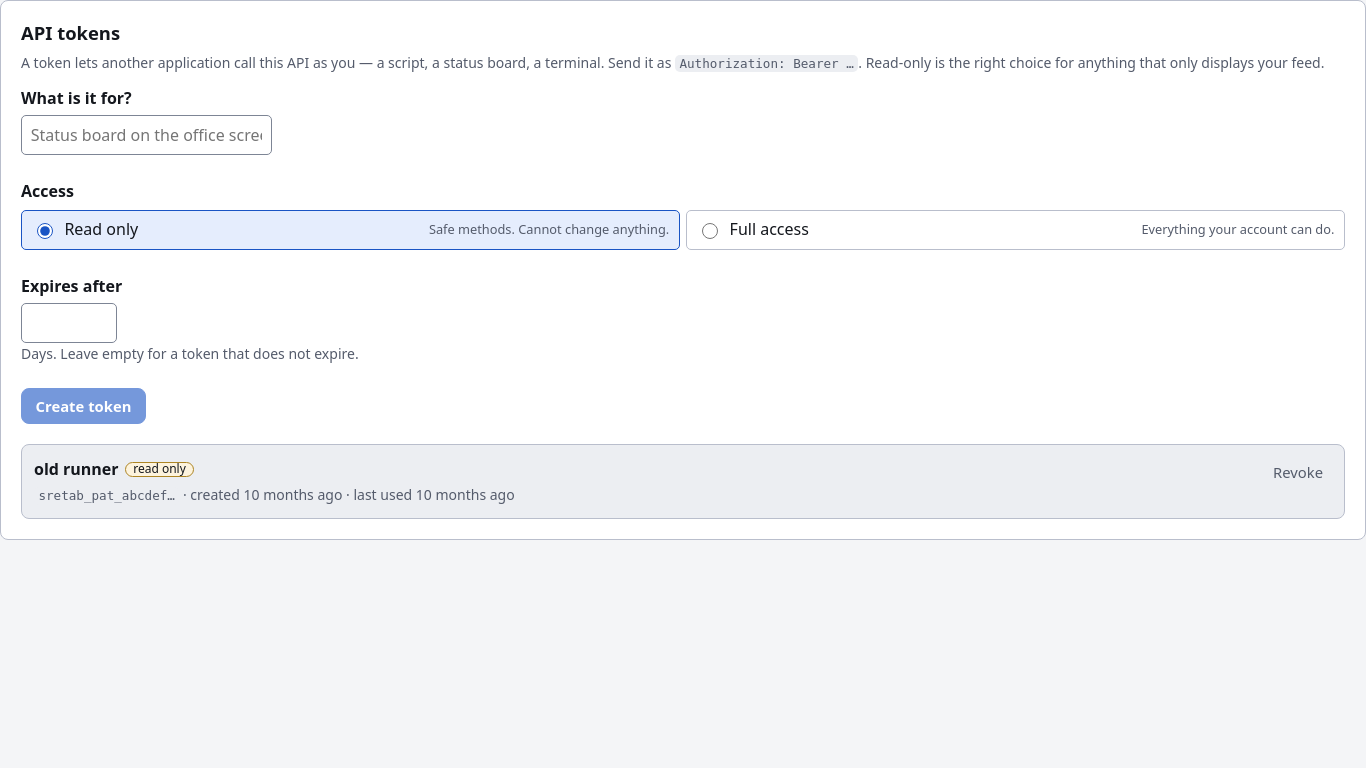
it: ApiTokensSection › revokes a token and reloads the list
Click the button "Revoke" at [1298, 472], box [1264, 457, 1332, 488]
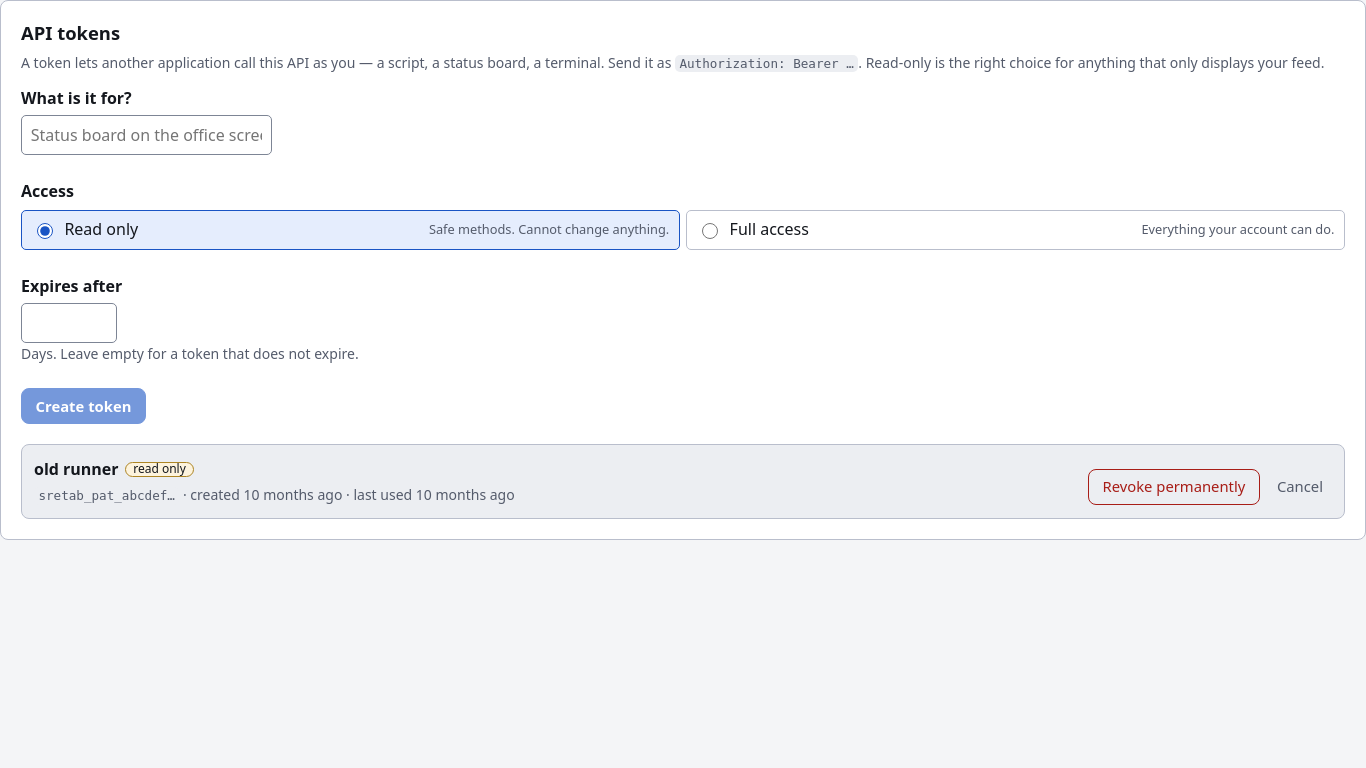
Click the button "Revoke permanently" at [1174, 487], box [1088, 469, 1260, 505]
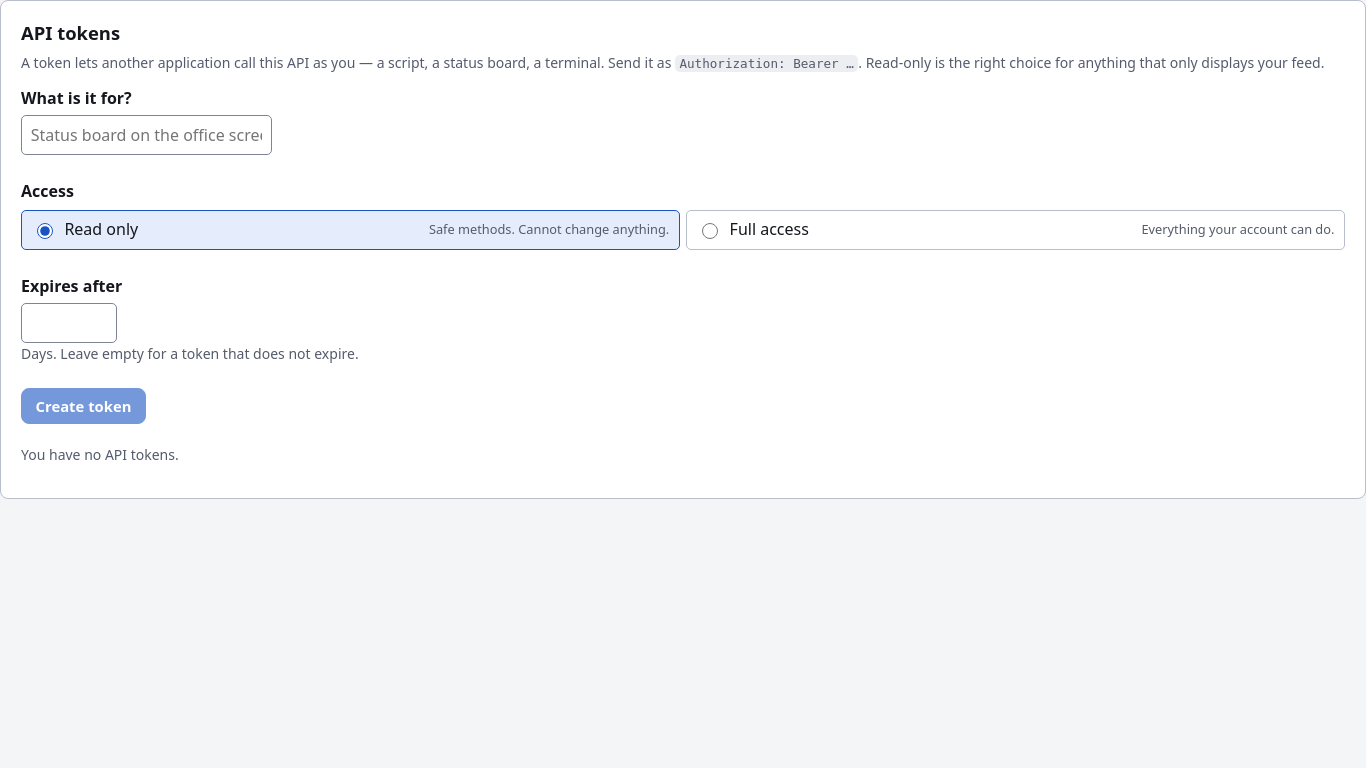
Now the text "You have no API tokens" is shown, box [21, 445, 179, 464]
